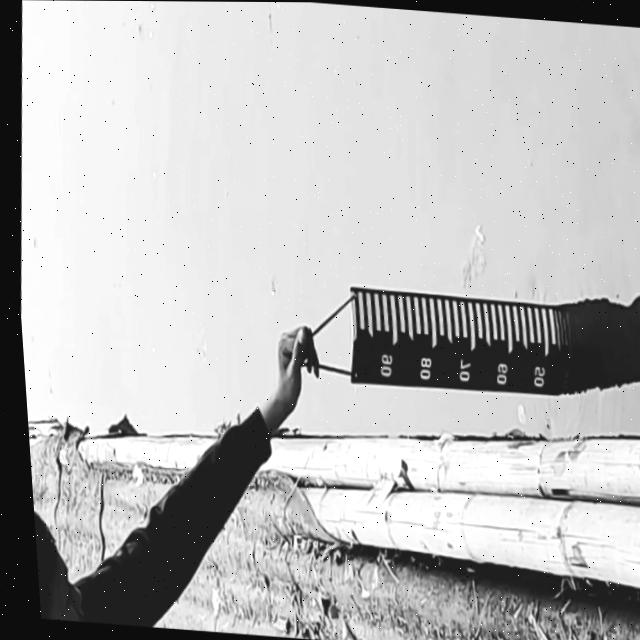water-meter: (332, 269, 581, 425)
